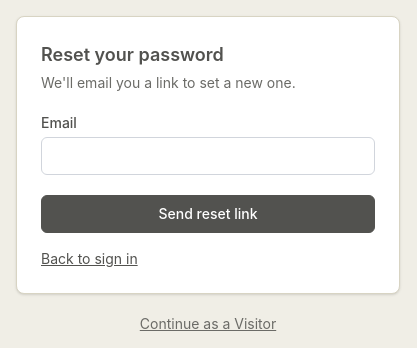
Test case: PasswordResetRequestPage › confirms the link is on its way, naming the address it went to
The image size is (417, 348).
Type "visitor@example.com" into the field labelled "Email" at point(208, 156), box [41,137,375,175]
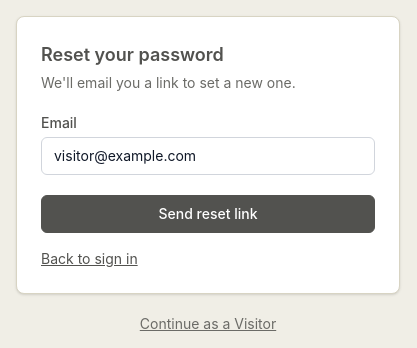
Click the button "Send reset link" at point(208, 214), box [41,195,375,233]
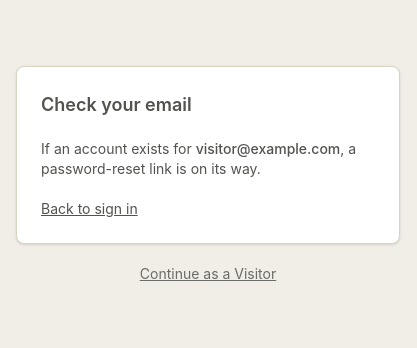
expect the heading "Check your email" is shown: met, box [41,94,192,115]
expect the text "visitor@example.com" is shown: met, box [196,140,340,157]
